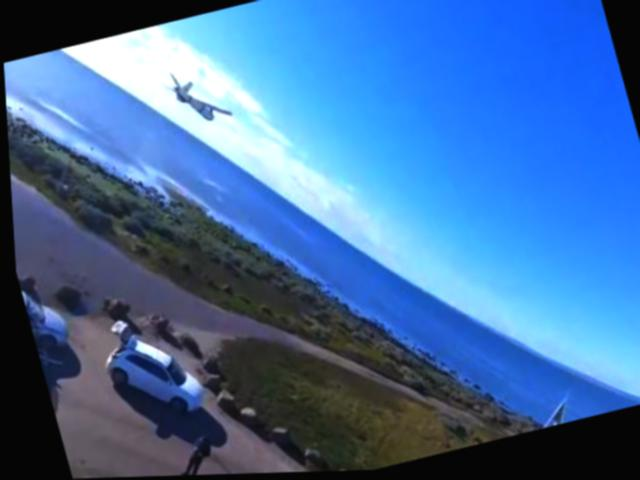uav: (160, 64, 234, 135)
